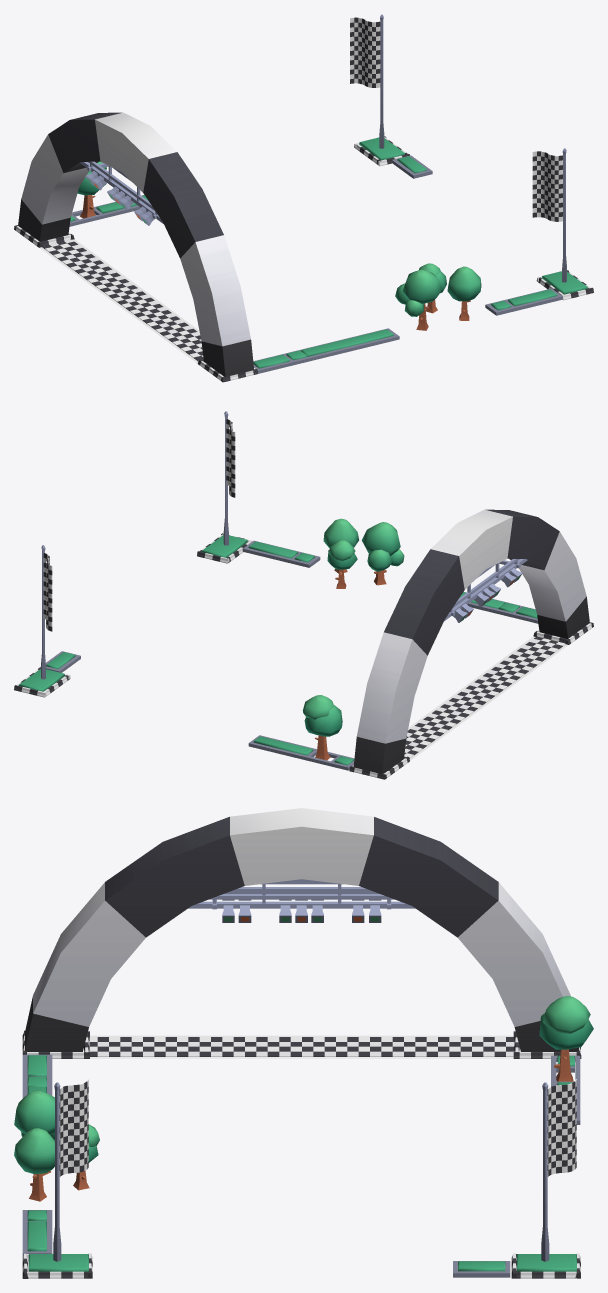
The model's file is start.glb.
The picture shows the model from 3 angles, top to bottom: view 1: azimuth 30°, elevation 25°; view 2: azimuth 150°, elevation 25°; view 3: azimuth 270°, elevation 25°; orthographic projection. The views are drawn at different scales.
Parts seen in each view (by area): view 1: Start.007; view 2: Start.007; view 3: Start.007.
Boxes of the visible parts, x1,y1,x2,y2 form: Start.007: (14,14,593,382); Start.007: (14,411,593,779); Start.007: (14,808,593,1278).
Size of the model in its own units: 17.55 by 7.78 by 17.64.
Materials: 1 (1 with a texture image).
